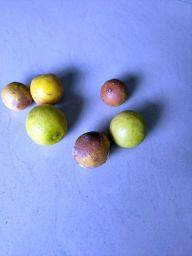lemon: (26, 105, 69, 145), (73, 131, 111, 169), (110, 111, 145, 148), (30, 74, 63, 105), (1, 82, 31, 110), (99, 79, 127, 106)
